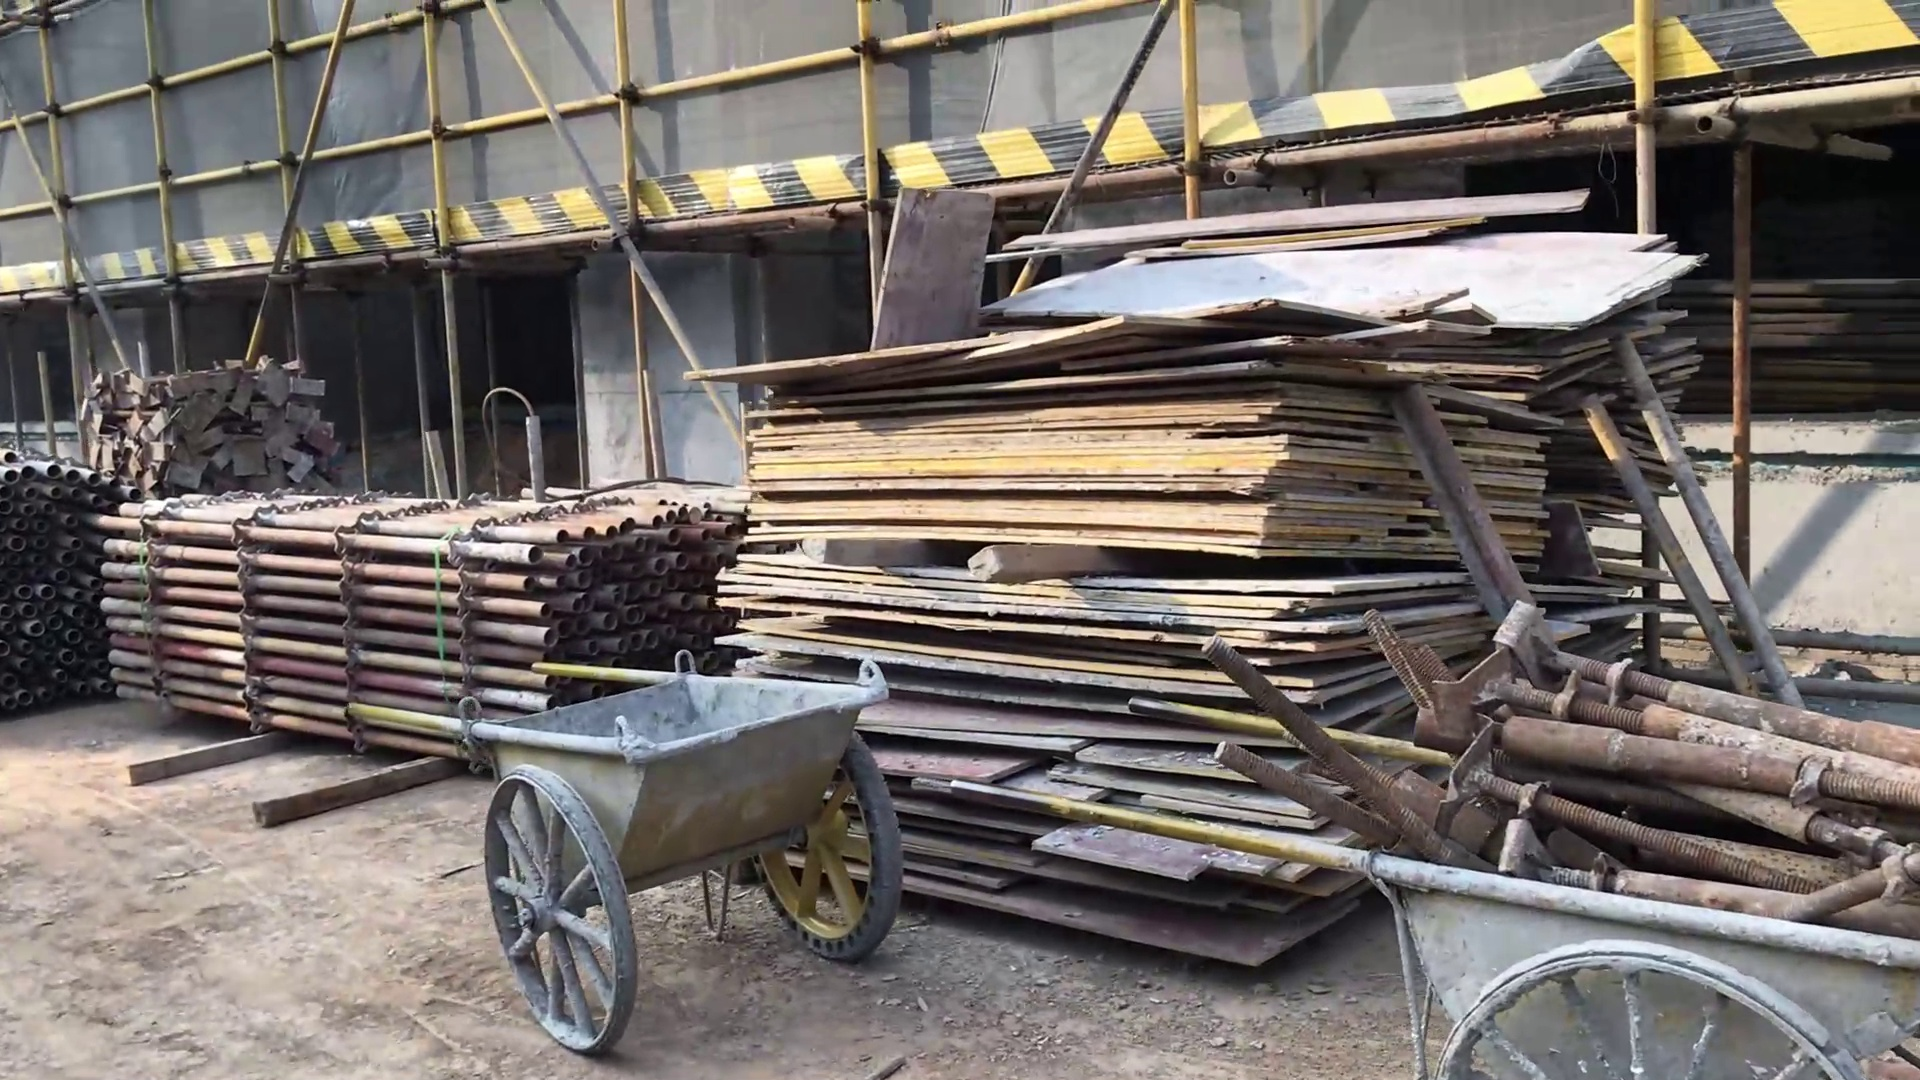board: (729, 191, 1673, 936)
handcart: (942, 694, 1920, 1079), (345, 657, 907, 1058)
scaffold: (100, 477, 742, 762), (1, 444, 123, 717)
